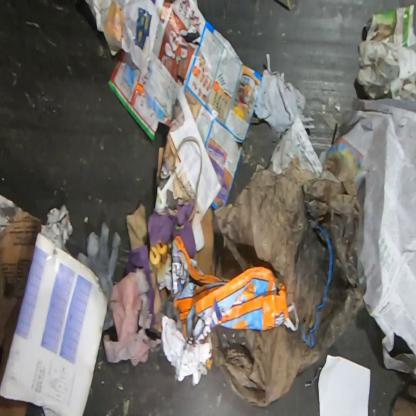cardboard: (0, 211, 43, 388), (192, 206, 216, 276), (125, 202, 148, 250), (0, 395, 28, 416)
soft_plastic: (76, 221, 122, 332)
